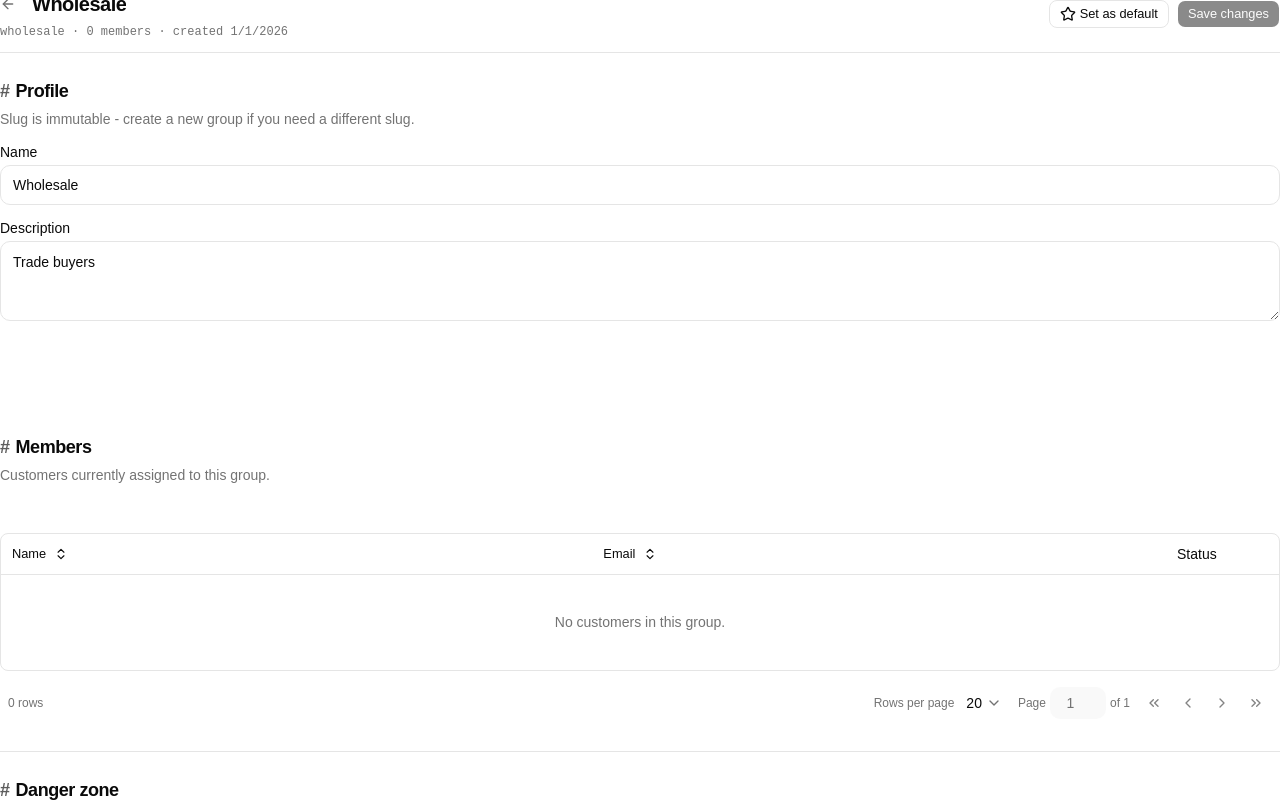
Test: CustomerGroupDetailPage › opens the same review on ⌘S
Expected: the button "Save changes" is shown, [1177,0,1279,28]
Replace the text in the field labelled "Name" with "Trade" at (640, 185), box [0,165,1279,205]
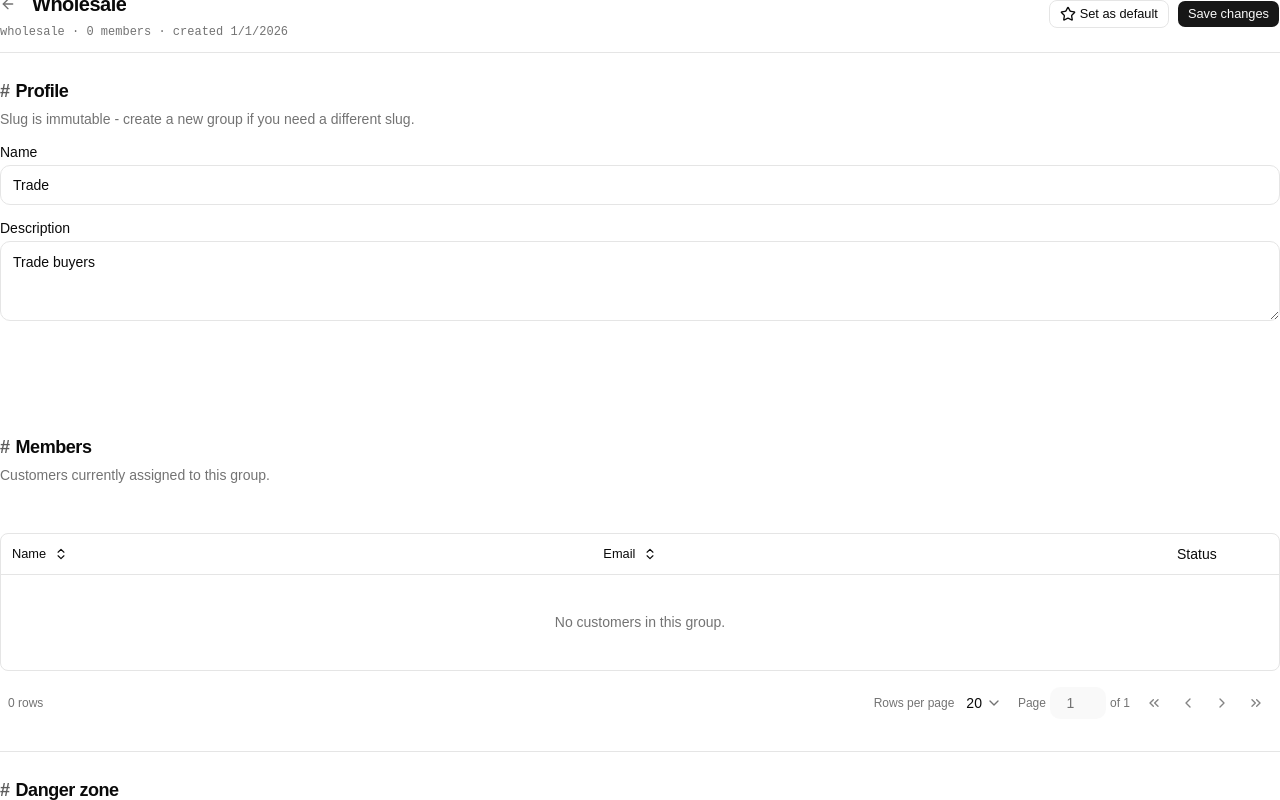
Press s
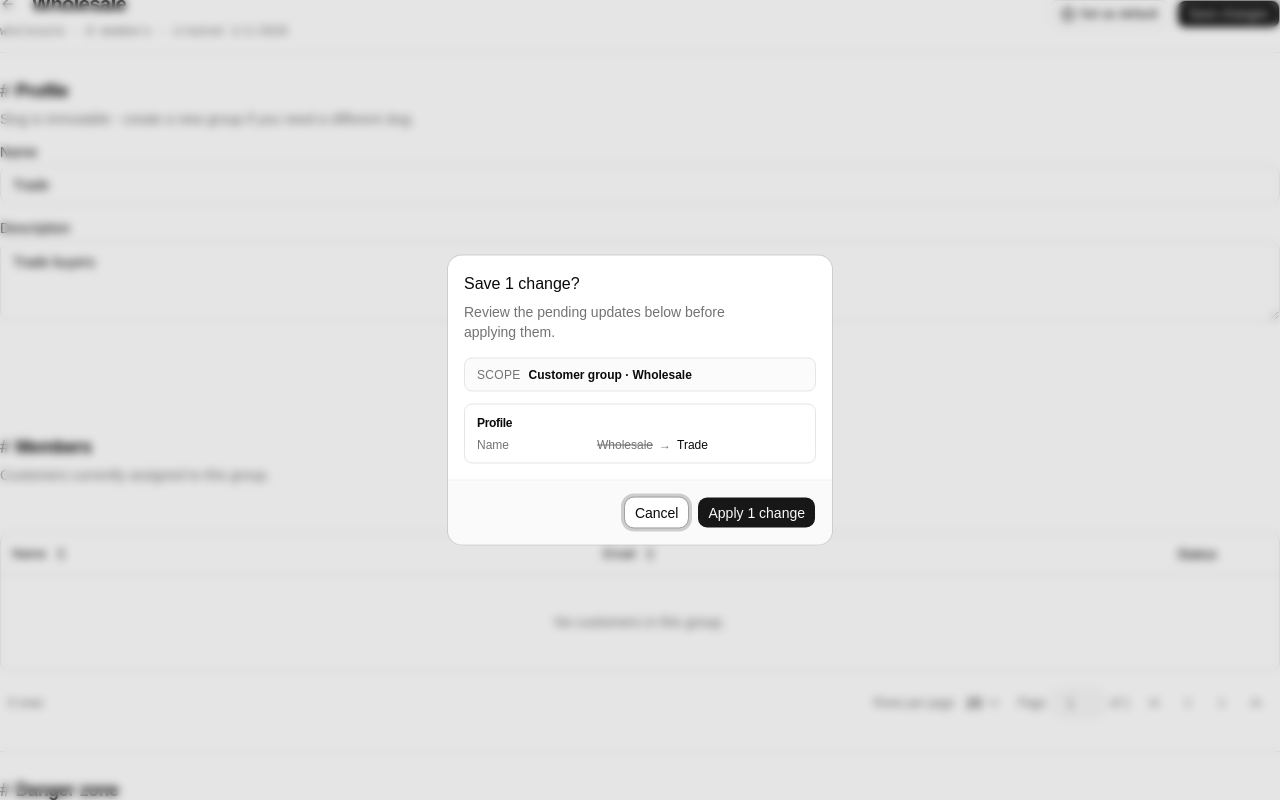
Result: the button "Apply 1 change" is shown at [698,496,816,528]
